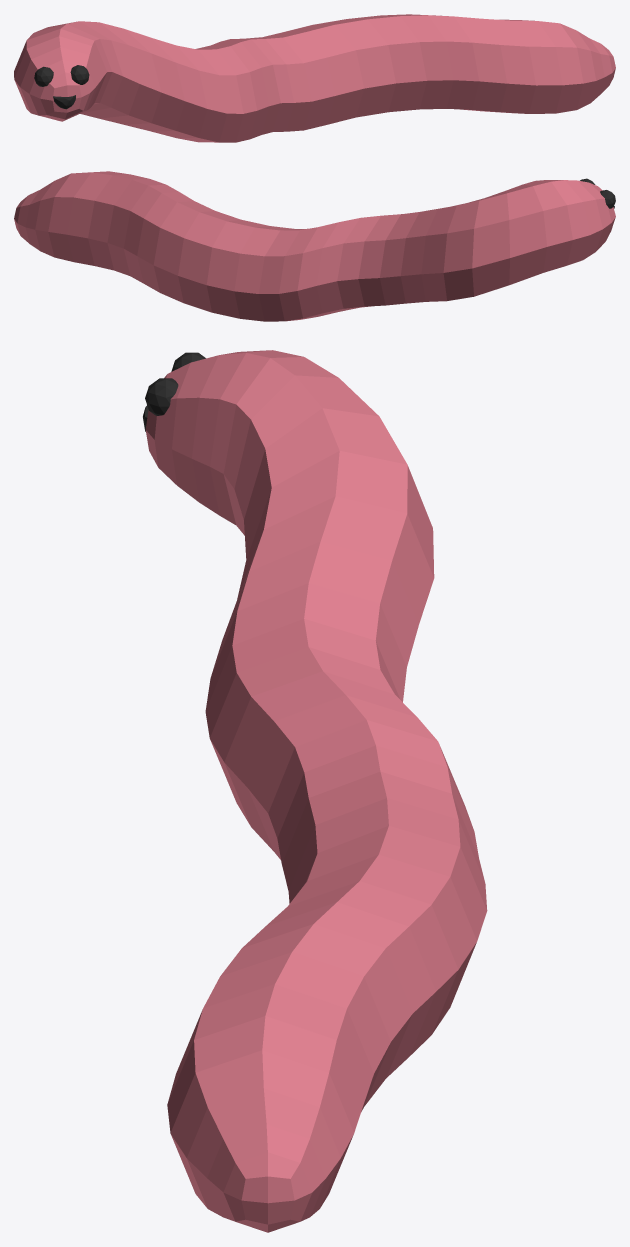
Rendered from Gusanete.fbx.
3 views of the same model, one above another, from view 1: azimuth 30°, elevation 25°; view 2: azimuth 150°, elevation 25°; view 3: azimuth 270°, elevation 25° (orthographic). The views are drawn at different scales.
Visible parts, largest first — view 1: Gusanete; view 2: Gusanete; view 3: Gusanete.
Boxes of the visible parts, x1=… form: Gusanete: x1=14, y1=14, x2=615, y2=142; Gusanete: x1=14, y1=171, x2=615, y2=321; Gusanete: x1=143, y1=350, x2=487, y2=1232.
Size of the model in its own units: 35.57 by 11.39 by 9.16.
